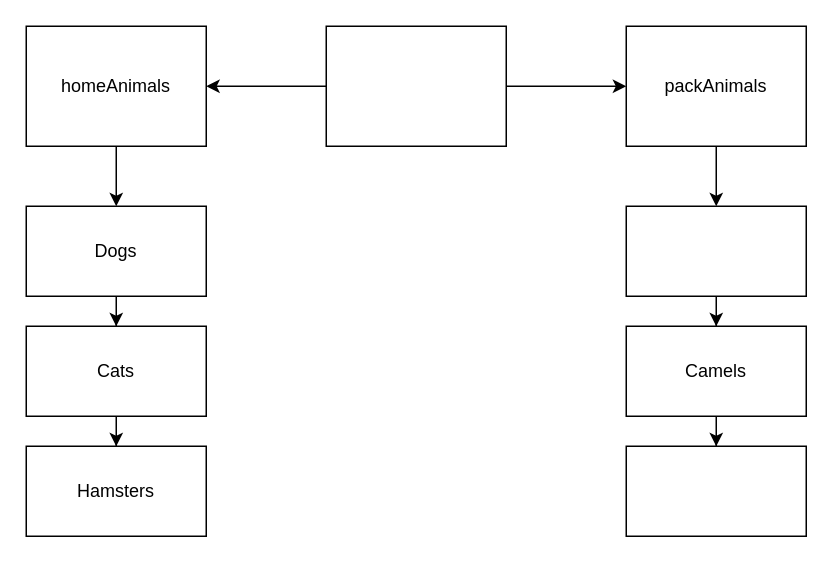
The diagram is 833 pixels wide and 563 high, and some of its shapes have lost their labels. The shapes that lost their labels are listed below. From the top down, each one's centre as x and y in pixels, then its label:
At (415,85): "Animal".
At (715,250): "Horses".
At (715,490): "Donkeys".
